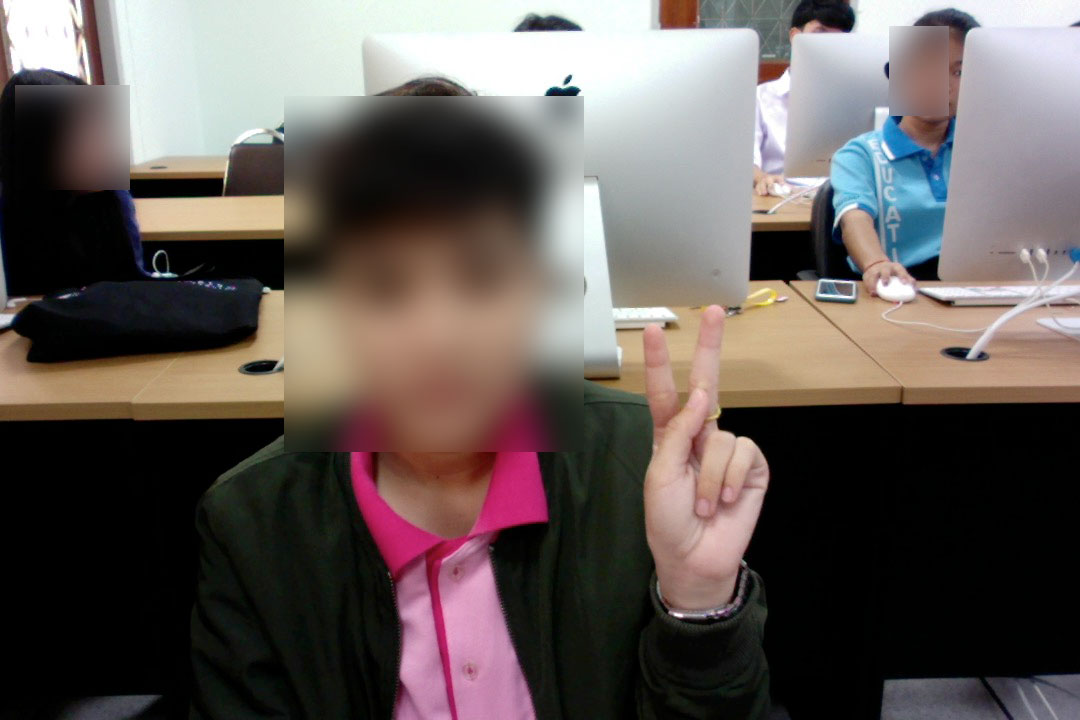ko: (619, 292, 780, 624)
